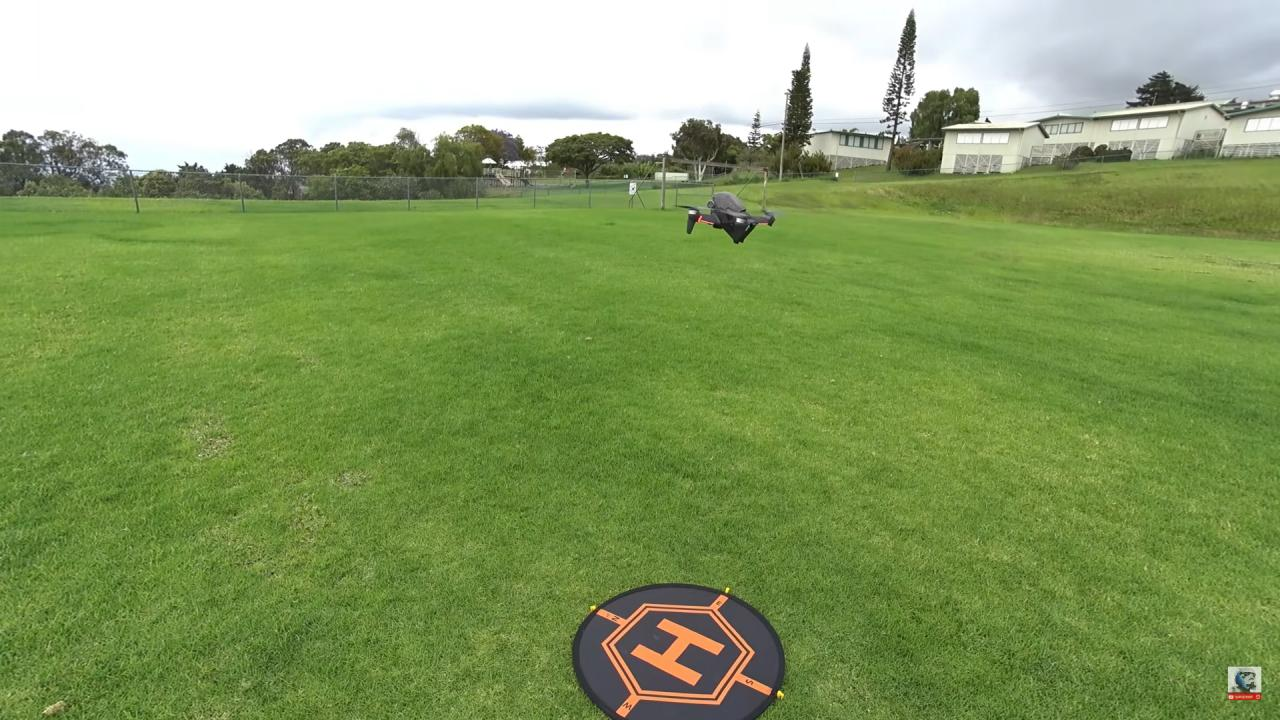Drone: (672, 187, 783, 254)
